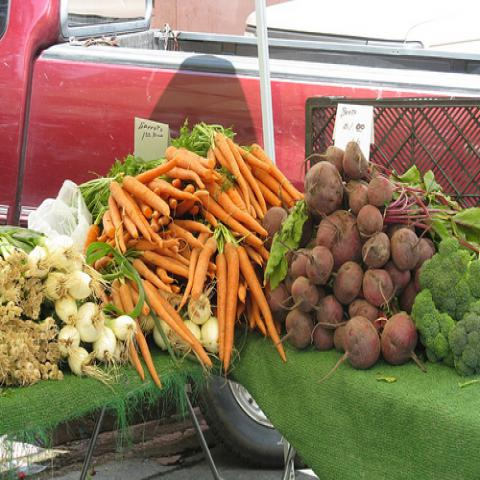truck: (0, 1, 479, 229)
